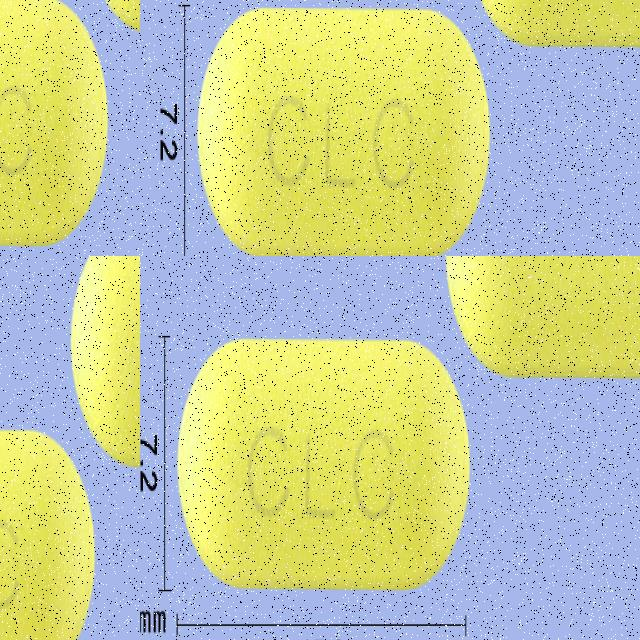Bearcin: (193, 0, 490, 256)
Clamin: (0, 408, 95, 640), (68, 256, 140, 491)
Claric - 500mg: (173, 330, 474, 597), (443, 256, 640, 388)
Claroma Tab-500mg: (0, 66, 140, 256)
